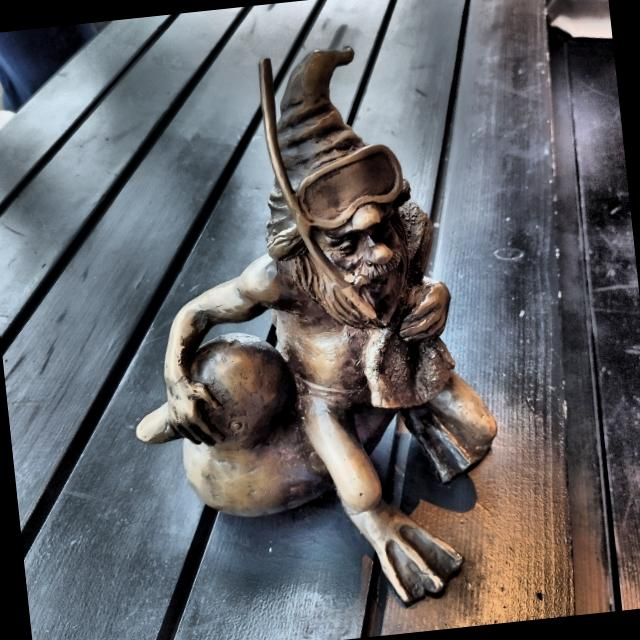Babelek_Chlaptus: (136, 48, 496, 603)
